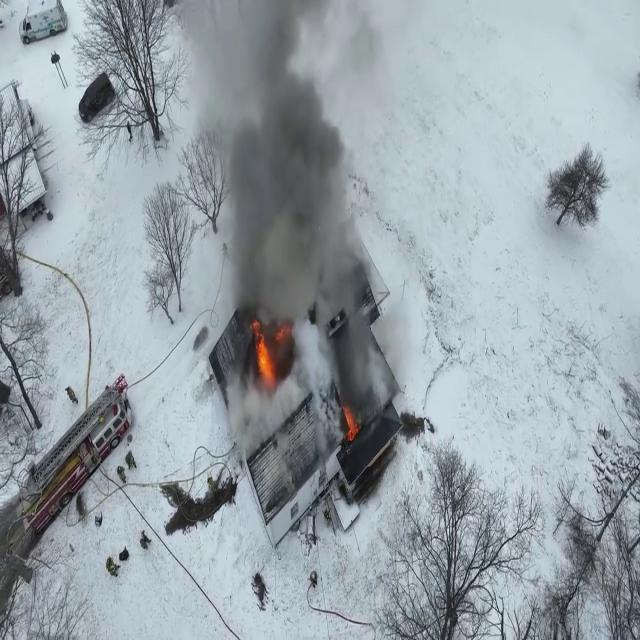Smoke: (181, 1, 393, 428)
